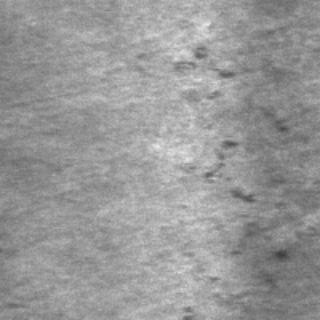rolled pit: (200, 132, 284, 288), (165, 42, 233, 102)
